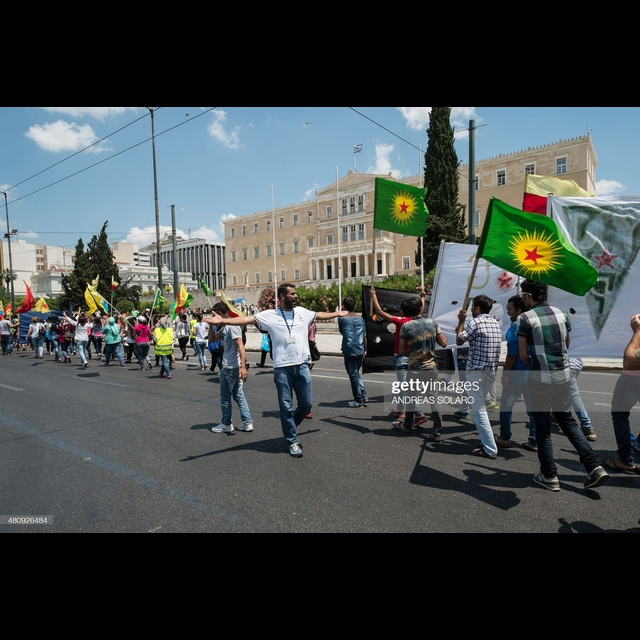KCK: (509, 222, 567, 280), (387, 189, 420, 226)
